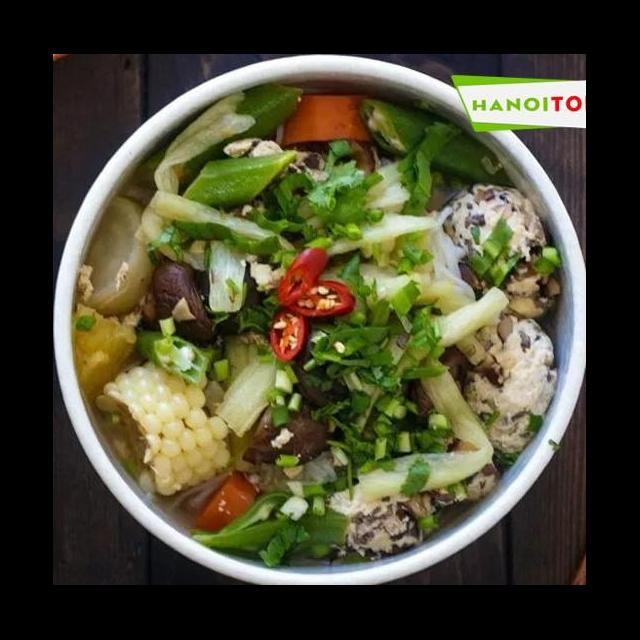vien moc: (452, 312, 562, 458), (431, 178, 552, 294), (332, 490, 444, 562)
